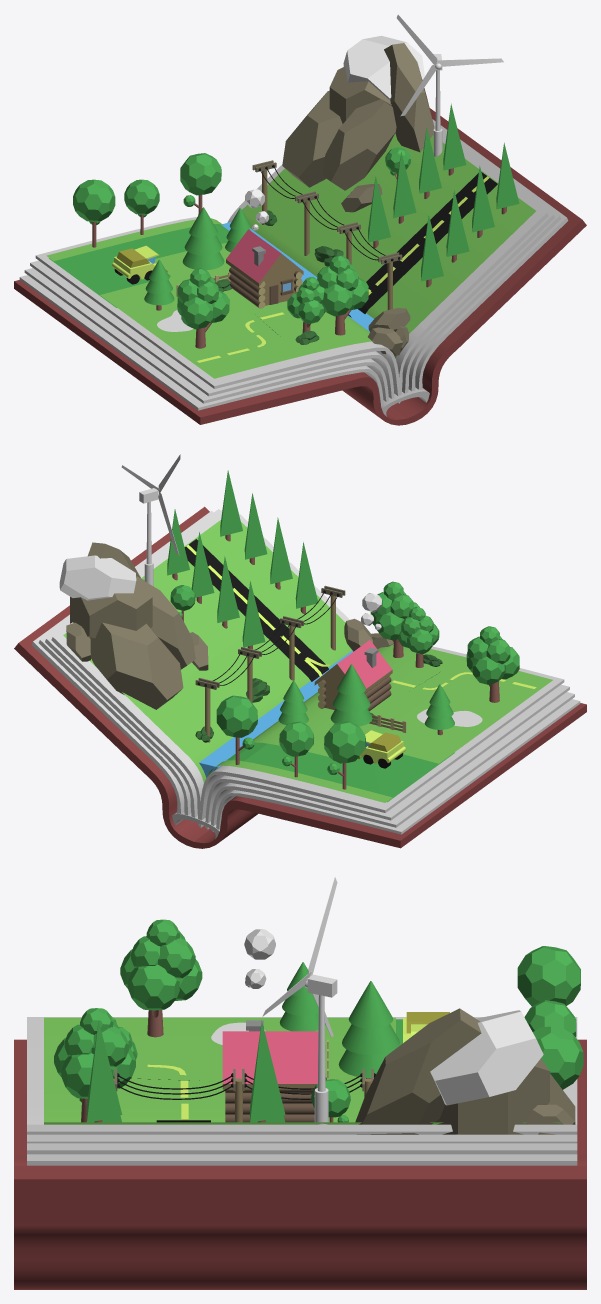
File: book.glb
3 renders of one model, top to bottom at view 1: azimuth 30°, elevation 25°; view 2: azimuth 150°, elevation 25°; view 3: azimuth 270°, elevation 25°, orthographic. The views are drawn at different scales.
Parts seen in each view (by area): view 1: Line011, Line001, Line006, Hedra014, Line005, Line012, Line004, Line003, Line010, Hedra015, Hedra013, Line014 (+28 smaller); view 2: Line011, Line001, Hedra013, Line006, Line012, Line005, Line004, Line010, Line003, Hedra012, Hedra039, Line014 (+29 smaller); view 3: Line001, Line011, Hedra015, Line007, Line008, Hedra039, Line009, Line010, Hedra011, Group031, Hedra003, Hedra012 (+16 smaller).
Part boxes in pixels (left/top/right/bottom): Line011: left=46, top=133, right=535, bottom=378; Line001: left=14, top=108, right=586, bottom=425; Line006: left=35, top=217, right=400, bottom=403; Hedra014: left=322, top=99, right=396, bottom=190; Line005: left=30, top=260, right=394, bottom=398; Line012: left=49, top=224, right=229, bottom=307; Line004: left=24, top=268, right=388, bottom=403; Line003: left=19, top=275, right=383, bottom=410; Line010: left=227, top=136, right=548, bottom=394; Hedra015: left=384, top=43, right=434, bottom=152; Hedra013: left=282, top=90, right=342, bottom=187; Line014: left=358, top=172, right=497, bottom=313; Line011: left=63, top=520, right=552, bottom=802; Line001: left=14, top=506, right=586, bottom=848; Hedra013: left=90, top=622, right=183, bottom=709; Line006: left=198, top=646, right=564, bottom=827; Line012: left=214, top=742, right=454, bottom=802; Line005: left=205, top=684, right=569, bottom=829; Line004: left=211, top=692, right=574, bottom=831; Line010: left=51, top=513, right=349, bottom=819; Line003: left=216, top=699, right=580, bottom=834; Hedra012: left=70, top=576, right=152, bottom=638; Hedra039: left=59, top=555, right=136, bottom=600; Line014: left=184, top=539, right=328, bottom=681; Line001: left=14, top=1039, right=586, bottom=1289; Line011: left=44, top=1017, right=561, bottom=1124; Hedra015: left=355, top=1008, right=481, bottom=1134; Line007: left=27, top=1154, right=577, bottom=1165; Line008: left=27, top=1143, right=577, bottom=1154; Hedra039: left=430, top=1010, right=543, bottom=1105; Line009: left=27, top=1134, right=577, bottom=1143; Line010: left=27, top=1124, right=577, bottom=1134; Hedra011: left=120, top=919, right=202, bottom=1010; Group031: left=222, top=1031, right=318, bottom=1083; Hedra003: left=54, top=1008, right=135, bottom=1098; Hedra012: left=435, top=1058, right=549, bottom=1134.
Bounding box in the file's own units: 4.98 × 3.82 × 4.15.
